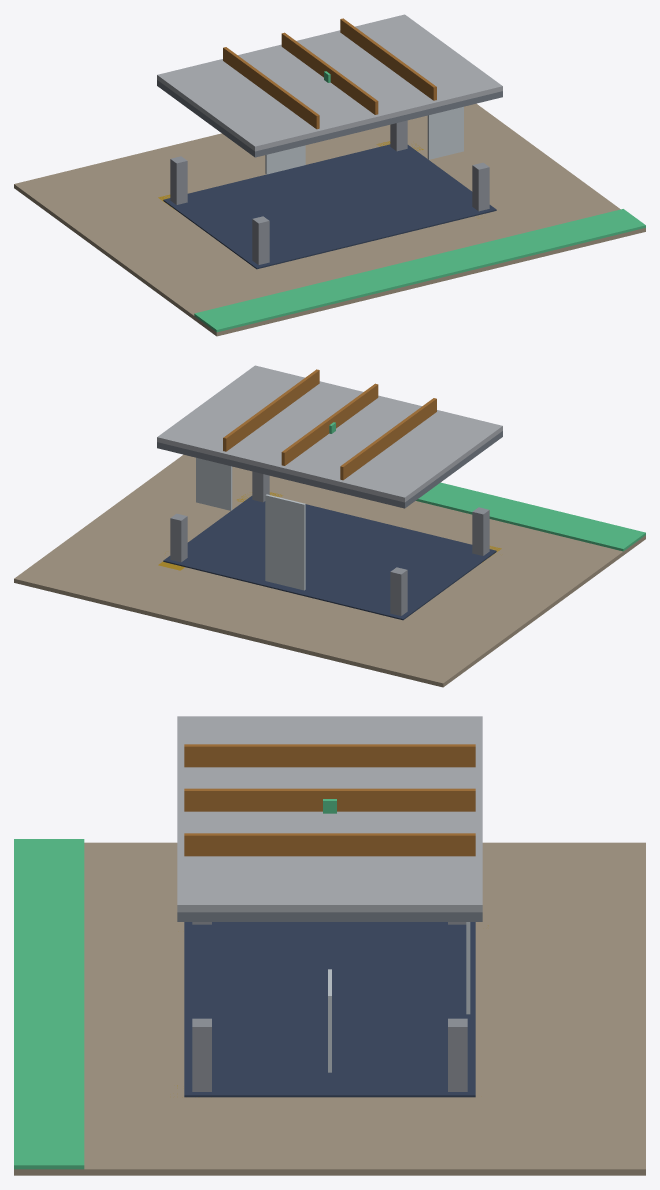
Rendered from stage_12_complete.glb.
3 renders of one model, top to bottom at view 1: azimuth 30°, elevation 25°; view 2: azimuth 150°, elevation 25°; view 3: azimuth 270°, elevation 25°, orthographic. The views are drawn at different scales.
Visible parts, largest first — view 1: world; view 2: world; view 3: world.
Part boxes in pixels (<box>): world: <box>14,14,645,336</box>; world: <box>14,365,645,687</box>; world: <box>14,716,645,1175</box>.
Size of the model in its own units: 11 by 4.2 by 9.
